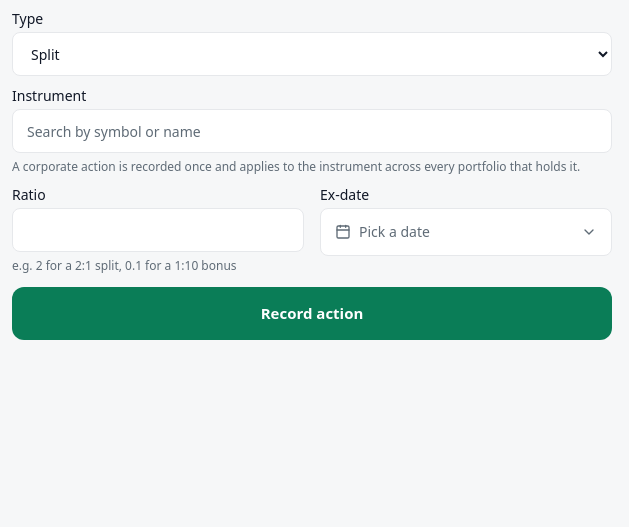
Test: RecordCorporateActionForm › does not render the portfolio picker for mergers with a single portfolio
Select "Merger" in the dropdown. click: (312, 54)
box: [12,32,612,76]
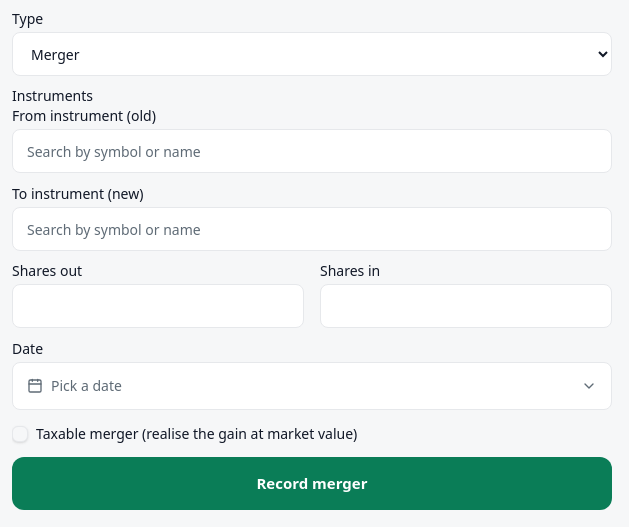
Expected: the text labelled "Portfolio" is gone
